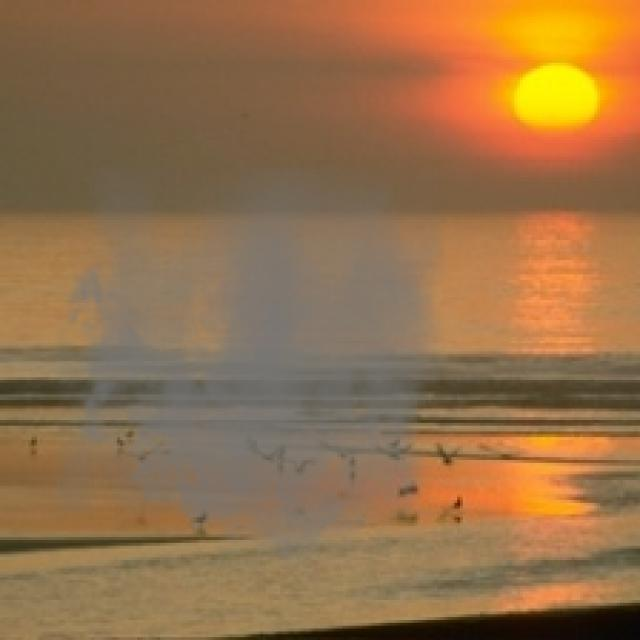smoke: (54, 168, 446, 583)
